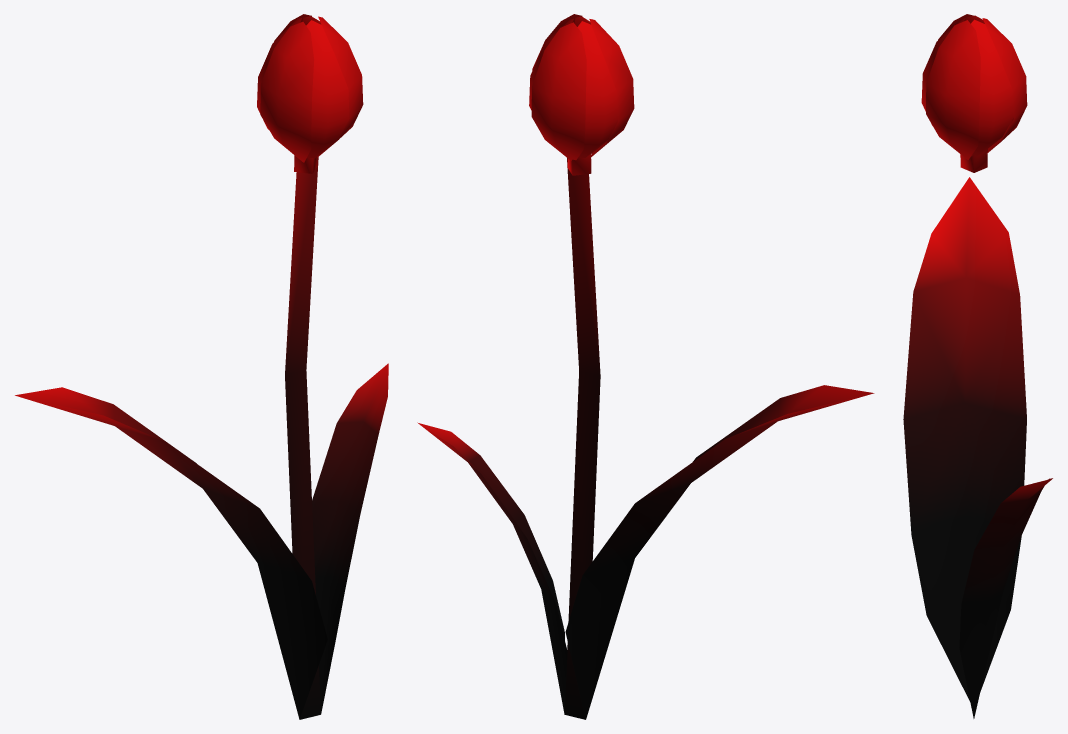
Rendered from SM_TulipBud_01_LOD1.fbx.
3 renders of one model, left to right at view 1: azimuth 30°, elevation 25°; view 2: azimuth 150°, elevation 25°; view 3: azimuth 270°, elevation 25°, orthographic.
Parts seen in each view (by area): view 1: SM_TulipBud_01_LOD1; view 2: SM_TulipBud_01_LOD1; view 3: SM_TulipBud_01_LOD1.
Part boxes in pixels (x1,y1,x2,y2): SM_TulipBud_01_LOD1: (15, 14, 388, 719); SM_TulipBud_01_LOD1: (417, 14, 874, 719); SM_TulipBud_01_LOD1: (903, 14, 1052, 718).
Bounding box in the file's own units: 91.07 × 28.61 × 147.
